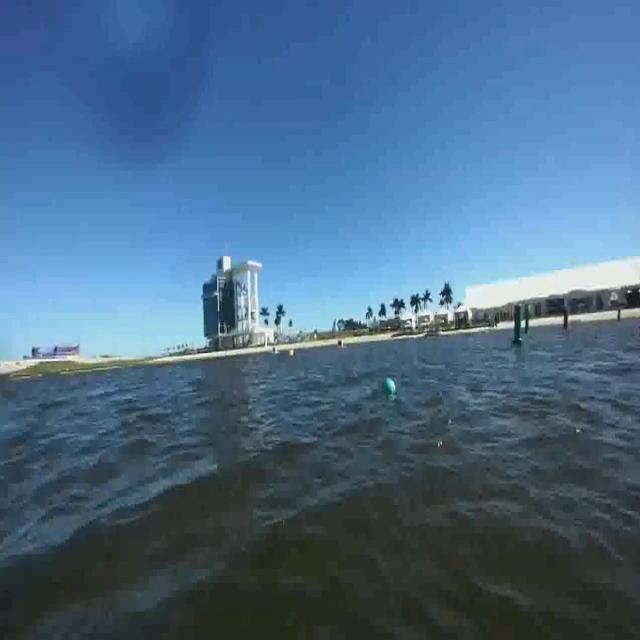green-buoy: (386, 381, 394, 394)
green-column-buoy: (509, 307, 523, 349), (523, 298, 531, 337)
red-column-buoy: (562, 308, 570, 332), (617, 304, 624, 324)
yellow-buoy: (289, 349, 294, 358)
